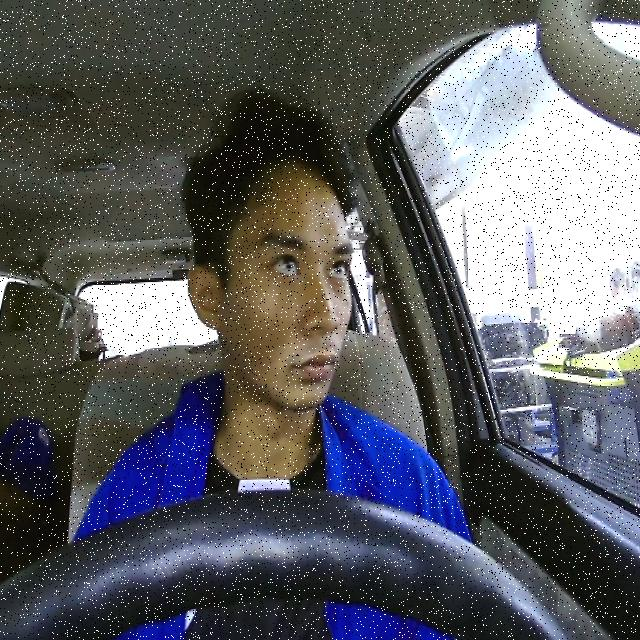seeing_right: (185, 157, 352, 411)
